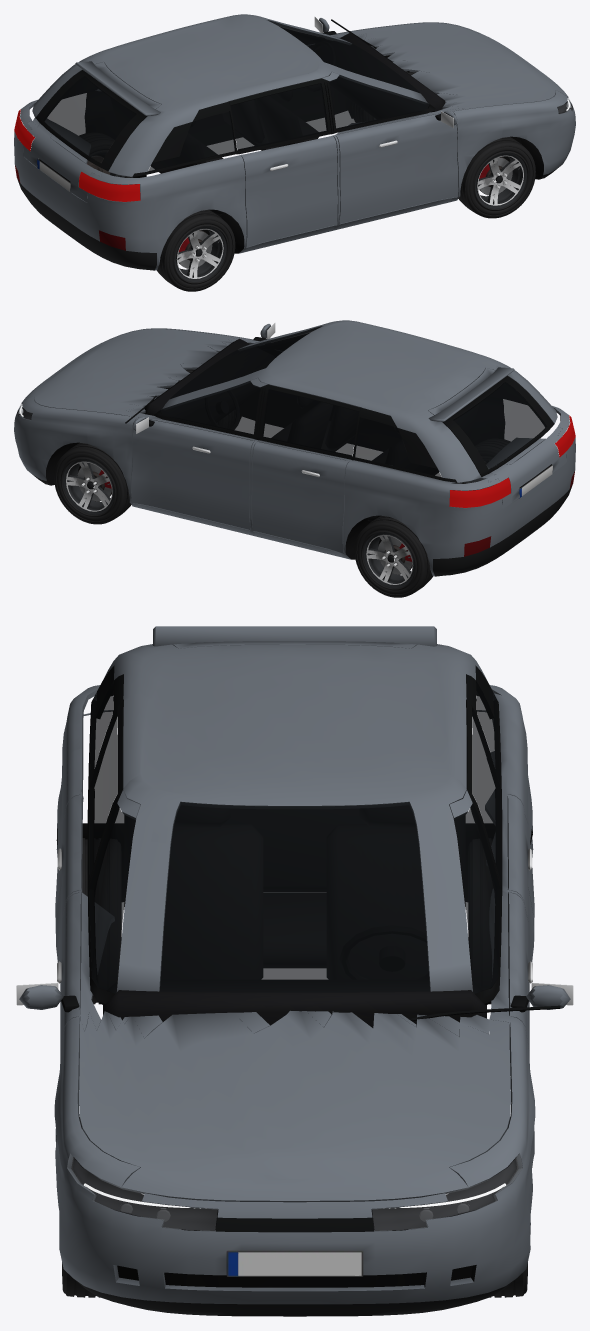
Rendered from car-lo-v1.glb.
3 views of the same model, one above another, from view 1: azimuth 30°, elevation 25°; view 2: azimuth 150°, elevation 25°; view 3: azimuth 270°, elevation 25° (orthographic). The views are drawn at different scales.
Parts seen in each view (by area): view 1: body, interior, door_FR_panel, hood_panel, door_RR_panel, tailgate_panel, glass_RR, glass_rear, glass_FR, glass_front, tyre_RR, tyre_FR (+5 smaller); view 2: body, interior, door_FL_panel, hood_panel, door_RL_panel, tailgate_panel, glass_RL, glass_rear, glass_FL, glass_front, tyre_RL, tyre_FL (+5 smaller); view 3: body, hood_panel, interior, glass_front, lights_front, glass_FL, glass_FR, door_FL_panel, door_FR_panel, door_RR_panel, door_RL_panel, tyre_RR (+8 smaller).
Boxes of the visible parts, x1=… form: body: x1=14, y1=14, x2=575, y2=270; interior: x1=63, y1=27, x2=566, y2=215; door_FR_panel: x1=322, y1=72, x2=458, y2=224; hood_panel: x1=351, y1=23, x2=567, y2=111; door_RR_panel: x1=229, y1=78, x2=337, y2=247; tailgate_panel: x1=23, y1=62, x2=161, y2=202; glass_RR: x1=230, y1=83, x2=327, y2=150; glass_rear: x1=43, y1=76, x2=135, y2=162; glass_FR: x1=329, y1=75, x2=429, y2=129; glass_front: x1=268, y1=20, x2=419, y2=92; tyre_RR: x1=157, y1=209, x2=235, y2=291; tyre_FR: x1=458, y1=137, x2=535, y2=218; body: x1=14, y1=320, x2=575, y2=576; interior: x1=23, y1=333, x2=526, y2=521; door_FL_panel: x1=131, y1=378, x2=267, y2=530; hood_panel: x1=22, y1=329, x2=242, y2=416; door_RL_panel: x1=252, y1=384, x2=360, y2=553; tailgate_panel: x1=428, y1=368, x2=566, y2=508; glass_RL: x1=262, y1=389, x2=359, y2=456; glass_rear: x1=454, y1=382, x2=546, y2=468; glass_FL: x1=160, y1=381, x2=260, y2=435; glass_front: x1=170, y1=326, x2=321, y2=398; tyre_RL: x1=354, y1=515, x2=432, y2=597; tyre_FL: x1=54, y1=443, x2=131, y2=524; body: x1=54, y1=626, x2=560, y2=1316; hood_panel: x1=79, y1=1010, x2=510, y2=1202; interior: x1=103, y1=691, x2=486, y2=1027; glass_front: x1=160, y1=802, x2=429, y2=992; lights_front: x1=68, y1=1154, x2=521, y2=1230; glass_FL: x1=454, y1=803, x2=500, y2=993; glass_FR: x1=89, y1=803, x2=135, y2=993; door_FL_panel: x1=449, y1=790, x2=529, y2=1057; door_FR_panel: x1=60, y1=790, x2=140, y2=1057; door_RR_panel: x1=56, y1=700, x2=123, y2=1003; door_RL_panel: x1=466, y1=700, x2=533, y2=1003; tyre_RR: x1=82, y1=838, x2=121, y2=1004.
Size of the model in its own units: 4.3 by 1.48 by 2.12.
Materials: 26 (1 with a texture image).
